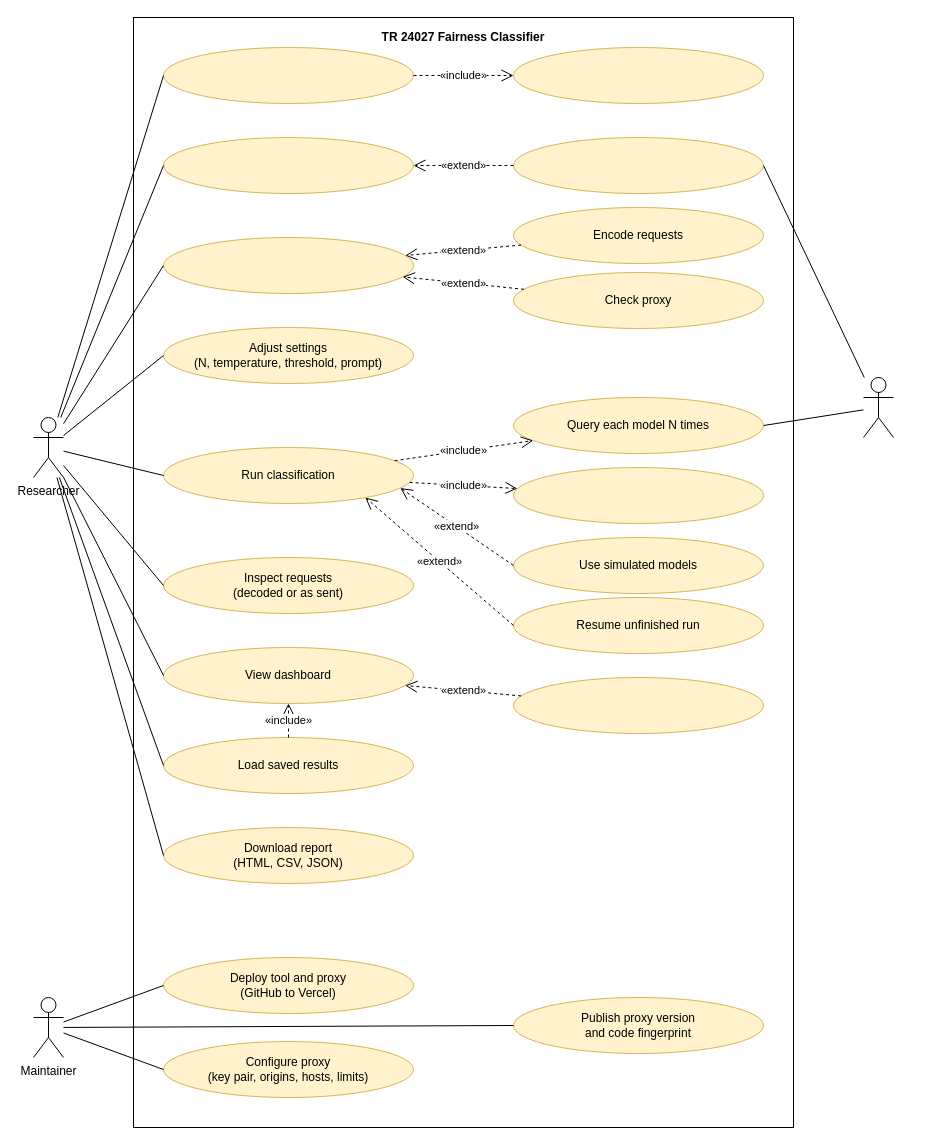
The diagram is 930 pixels wide and 1145 high, and some of its shapes have lost their labels. Each missing label, with the centre of its shape:
Check API key and list models: (x=638, y=165)
Choose route (direct or via API proxy): (x=288, y=265)
Compute self-consistency and cross-model agreement: (x=638, y=495)
Configure models and own API keys: (x=288, y=165)
Load decisions and options (JSON or example): (x=288, y=75)
Review TR 24027 checklist (tick, note): (x=638, y=705)
Validate input (incl. decision drivers): (x=638, y=75)
«system» LLM provider: (x=878, y=407)
